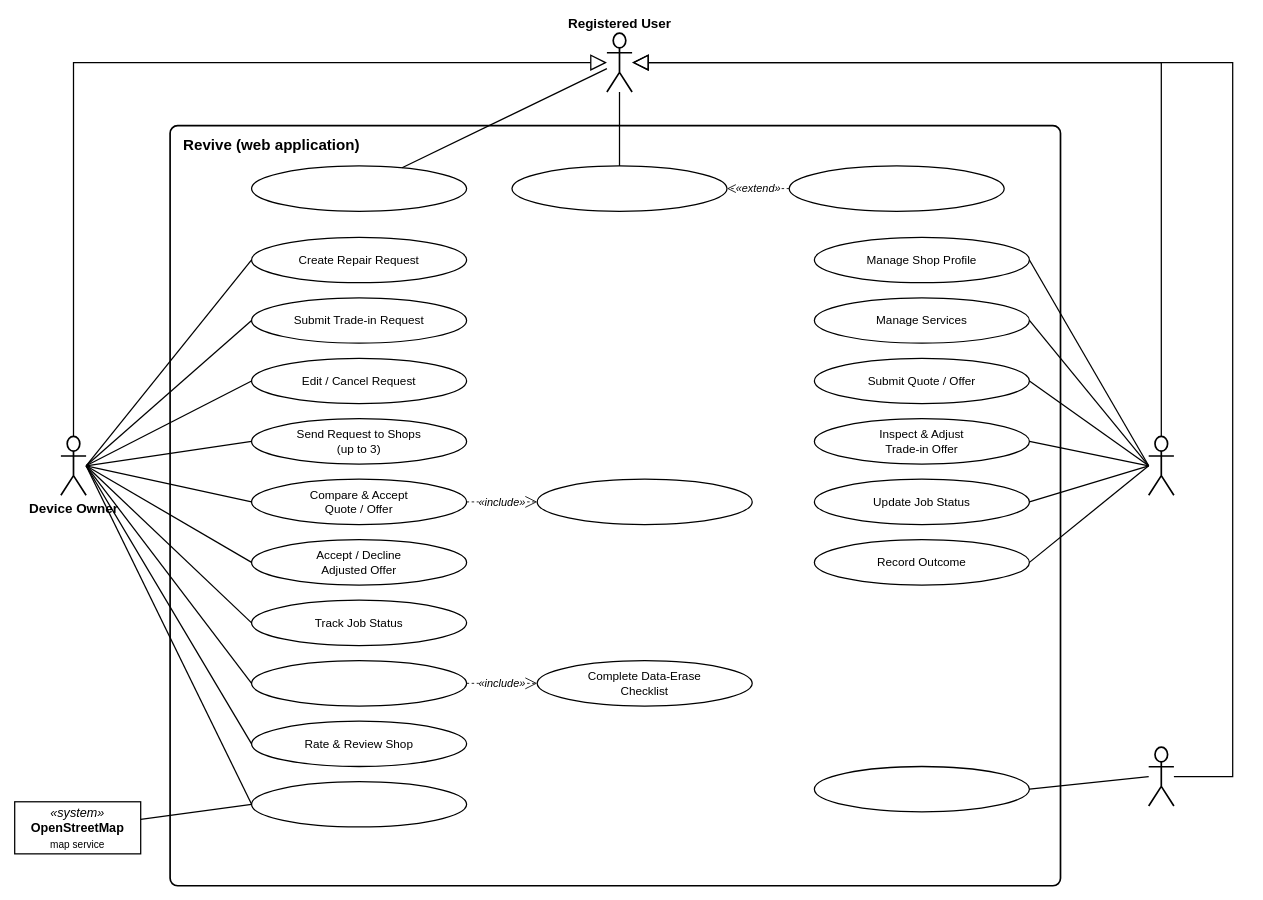
This 1263x900 diagram has some shape labels left out. Each missing label, with the centre of its shape:
"Admin" belongs at [1160,776].
"Book Drop-off / Pickup Slot" belongs at [644,501].
"Confirm Handover" belongs at [359,683].
"Manage Profile" belongs at [359,188].
"Repair Shop" belongs at [1160,465].
"Reset Password" belongs at [896,188].
"Search & Filter Shops" belongs at [359,804].
"Sign Up / Log In" belongs at [619,188].
"Verify / Unverify Shop" belongs at [921,788].
